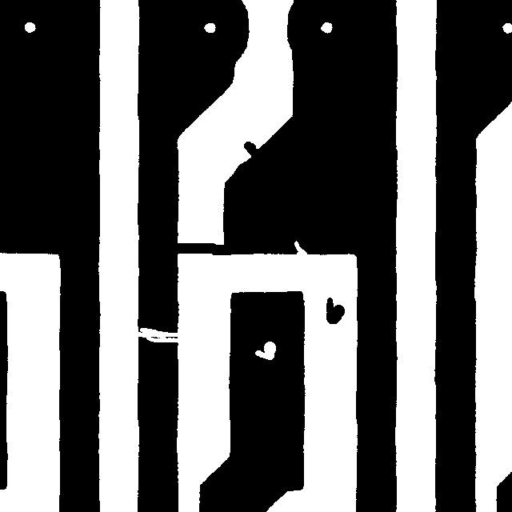copper: (318, 290, 352, 331)
mousebite: (286, 233, 314, 264)
open: (126, 320, 188, 350)
pin-hole: (247, 334, 283, 367)
short: (163, 235, 242, 262)
spur: (236, 134, 270, 166)
